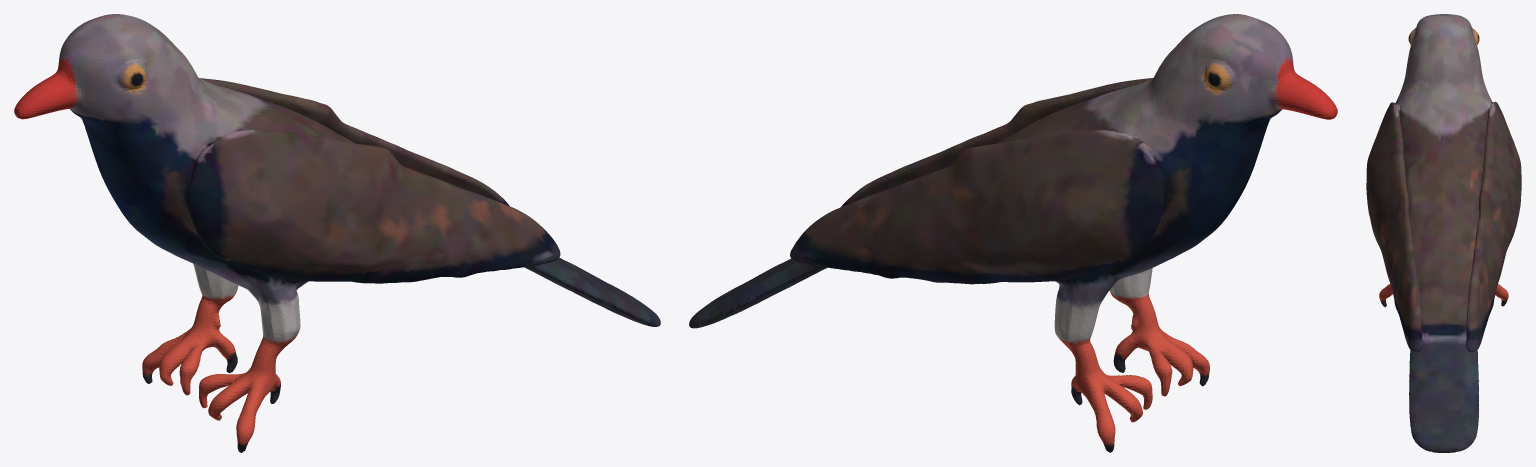
The model's file is starling.glb.
The picture shows the model from 3 angles, left to right: view 1: azimuth 30°, elevation 25°; view 2: azimuth 150°, elevation 25°; view 3: azimuth 270°, elevation 25°; orthographic projection. The views are drawn at different scales.
Visible parts, largest first — view 1: Bird; view 2: Bird; view 3: Bird.
Boxes of the visible parts, left/top/right/bottom form: Bird: left=14, top=14, right=660, bottom=452; Bird: left=689, top=14, right=1337, bottom=452; Bird: left=1366, top=14, right=1521, bottom=452.
Bounding box in the file's own units: 1.99 × 1.27 × 0.6622.
